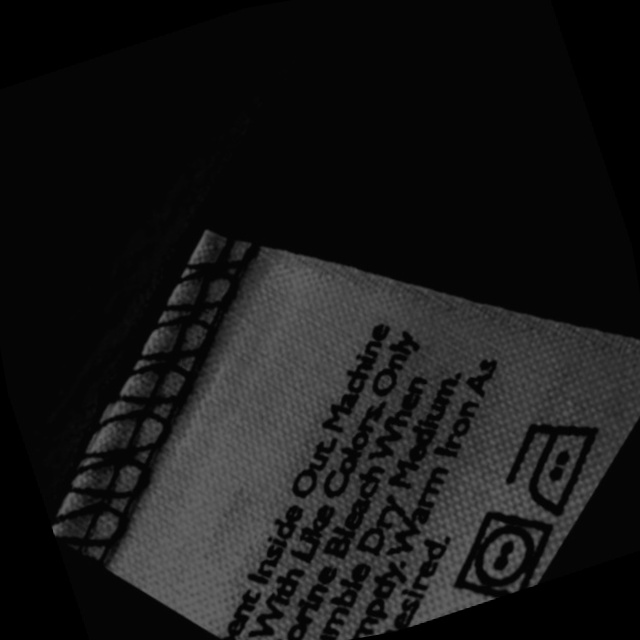iron_medium: (486, 396, 631, 533)
tumble_dry_medium: (433, 489, 576, 612)
